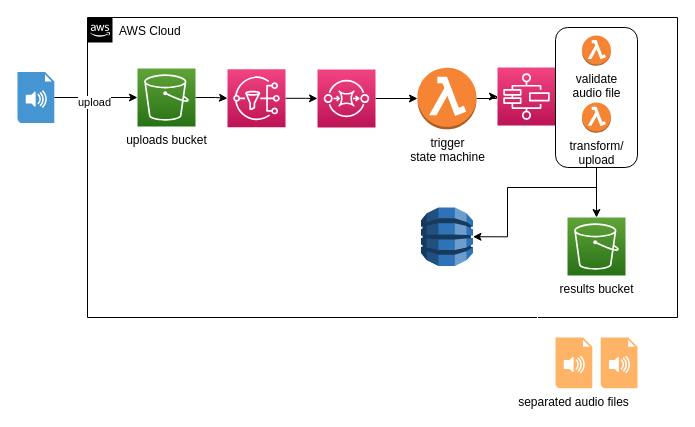
Some shapes in this 695 by 427 pixel diagram are drawn without their labels. Here are the shapes that lost their labels. From the top down, the box of each, then its label:
(226, 68, 286, 127): sns topic
(316, 68, 376, 128): sqs queue
(496, 66, 556, 126): step functions
(420, 206, 473, 266): job status table
